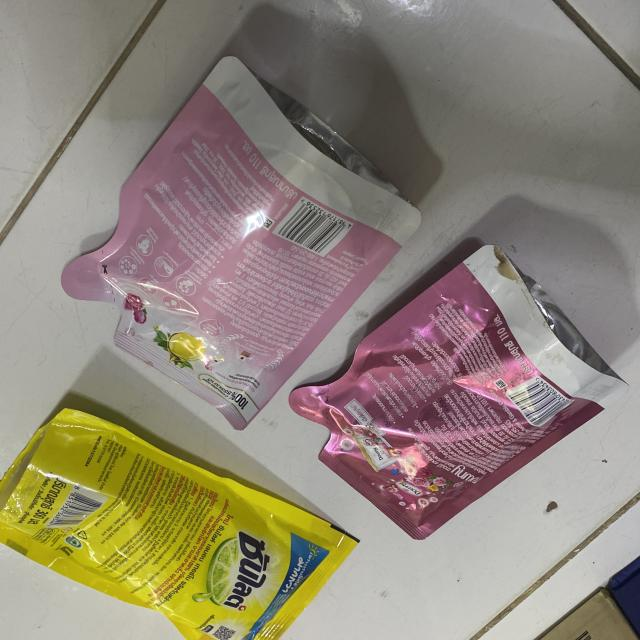plastik: (62, 58, 420, 430), (290, 246, 627, 540), (0, 409, 357, 640)
